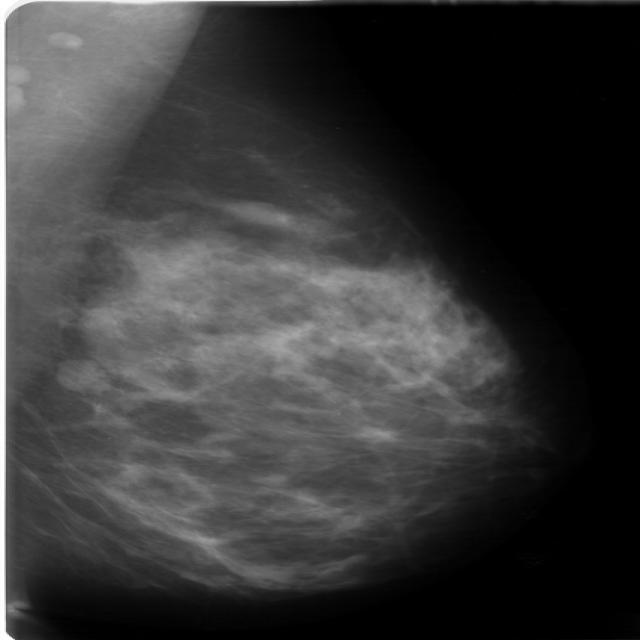tumour: (51, 357, 112, 394)
